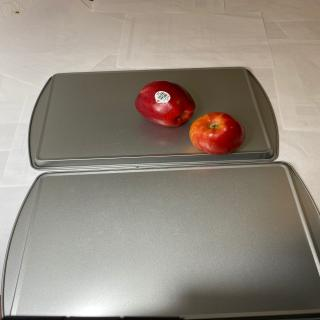Apple: (135, 80, 195, 127), (189, 112, 245, 155)
